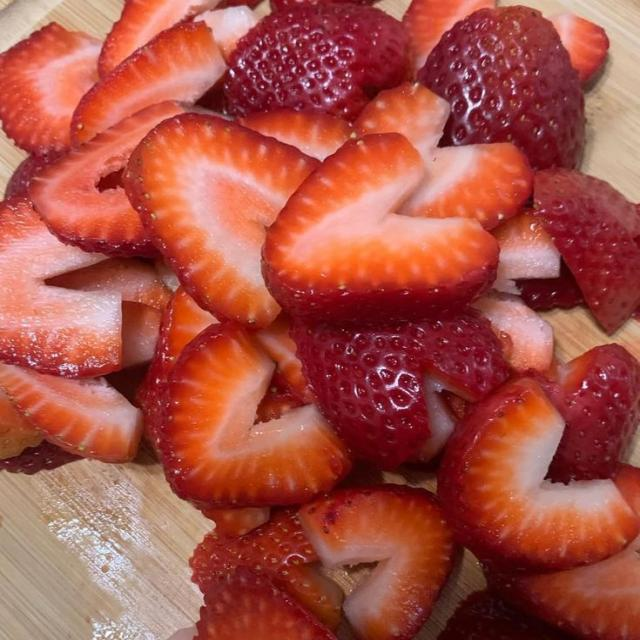strawberry sliced: (263, 133, 498, 325), (125, 114, 317, 326), (438, 379, 639, 569), (160, 323, 350, 506), (292, 312, 509, 469), (418, 6, 585, 170), (299, 485, 455, 639), (29, 102, 184, 255), (224, 2, 409, 120), (0, 199, 121, 376), (292, 321, 430, 469), (72, 22, 226, 145), (190, 510, 343, 628), (534, 170, 639, 333), (495, 538, 639, 639), (0, 365, 141, 462), (47, 259, 170, 368), (0, 23, 100, 153), (546, 345, 639, 482), (139, 287, 217, 450), (400, 144, 532, 228), (194, 568, 336, 639), (98, 0, 219, 77), (418, 309, 509, 402), (354, 83, 450, 161), (403, 0, 495, 71), (47, 258, 171, 310), (438, 591, 571, 639), (473, 294, 553, 372), (239, 109, 355, 160), (256, 314, 313, 403), (493, 210, 560, 280), (408, 376, 458, 463), (551, 13, 609, 84), (516, 261, 585, 310), (196, 6, 258, 60), (256, 370, 313, 423), (0, 392, 42, 460), (5, 152, 65, 198), (0, 441, 80, 474), (122, 302, 161, 368), (202, 508, 269, 537), (105, 364, 148, 407), (614, 464, 639, 514)
